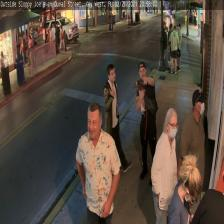person: (75, 102, 119, 224), (177, 89, 206, 220), (103, 63, 133, 175), (150, 107, 177, 224), (134, 61, 158, 182), (168, 153, 201, 223), (169, 26, 178, 74)
